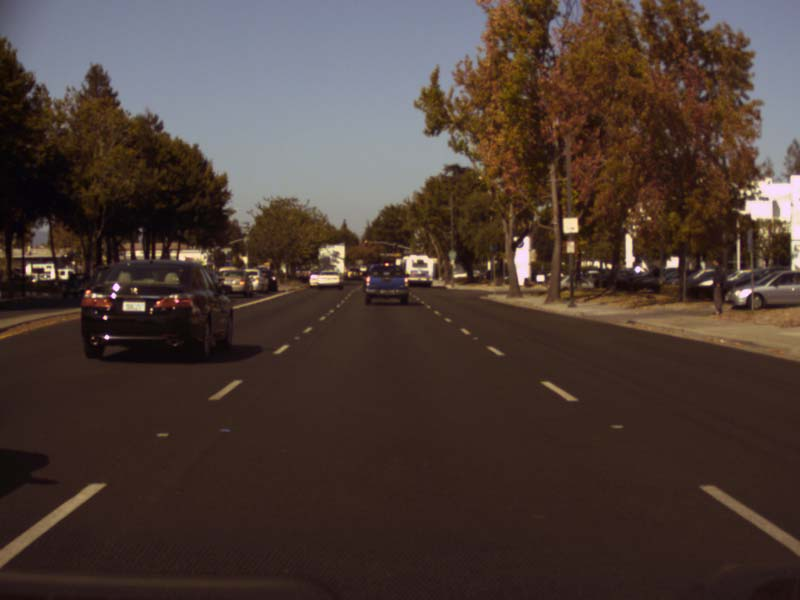Red: (363, 238, 367, 245)
